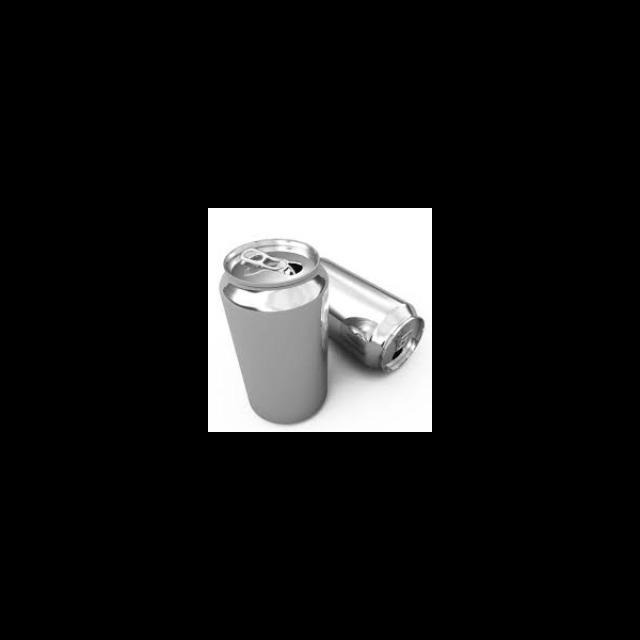metal: (217, 237, 335, 426), (329, 267, 425, 374)
